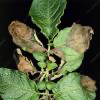Potato leaf late blight: (52, 24, 94, 58), (7, 20, 47, 54), (54, 72, 97, 99), (11, 47, 38, 76)
